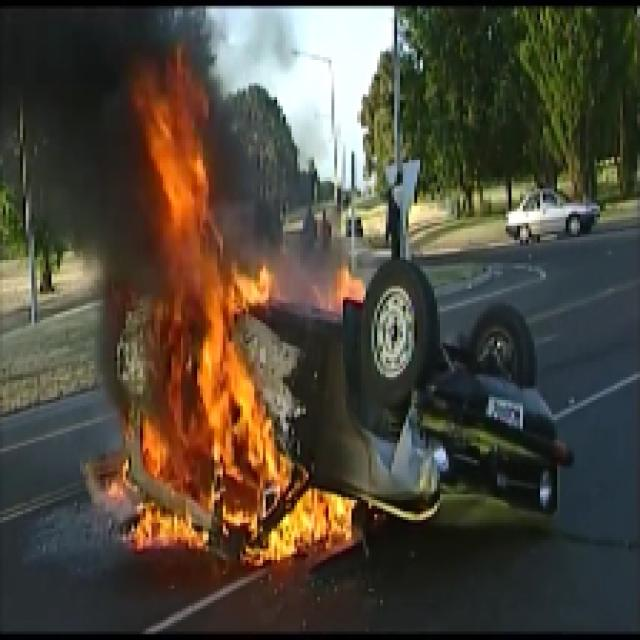fire: (139, 313, 278, 528), (153, 96, 203, 252)
smoke: (14, 21, 133, 224)
